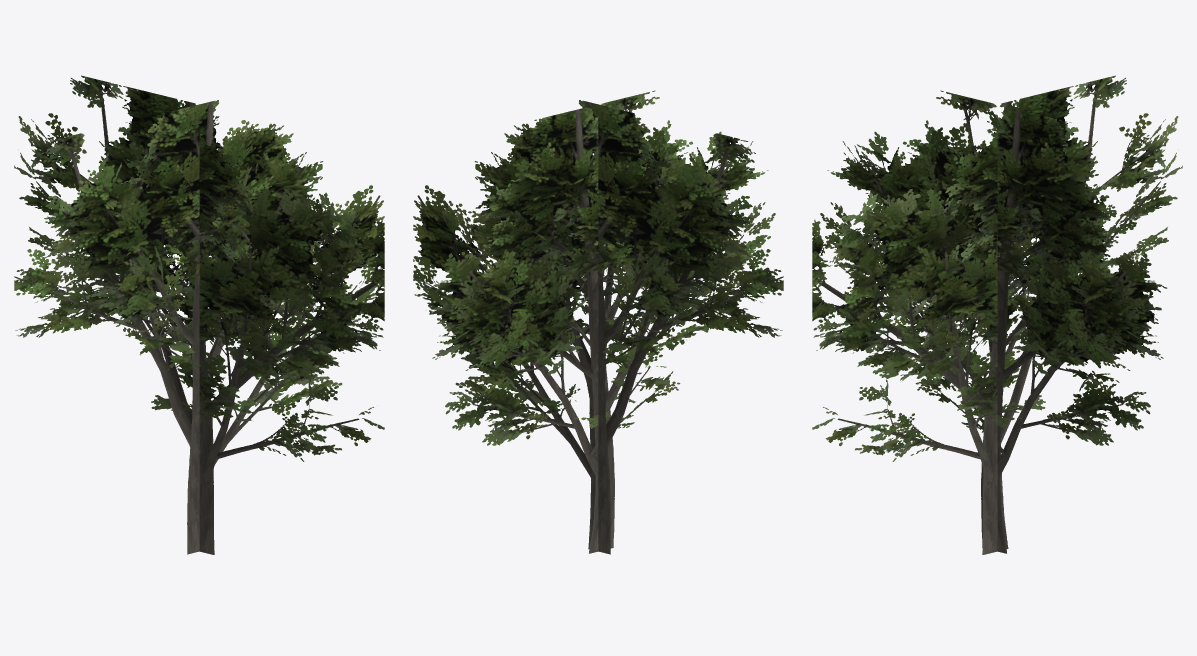
The model's file is lipa_stara_daleko.glb.
3 renders of one model, left to right at view 1: azimuth 30°, elevation 25°; view 2: azimuth 150°, elevation 25°; view 3: azimuth 270°, elevation 25°, orthographic.
Parts seen in each view (by area): view 1: lipa_stara_daleko; view 2: lipa_stara_daleko; view 3: lipa_stara_daleko.
Boxes of the visible parts, left/top/right/bottom form: lipa_stara_daleko: left=14, top=75, right=384, bottom=554; lipa_stara_daleko: left=413, top=90, right=783, bottom=554; lipa_stara_daleko: left=812, top=75, right=1182, bottom=554.
Bounding box in the file's own units: 16.82 × 19.4 × 14.57.
3 materials, 3 textured.
